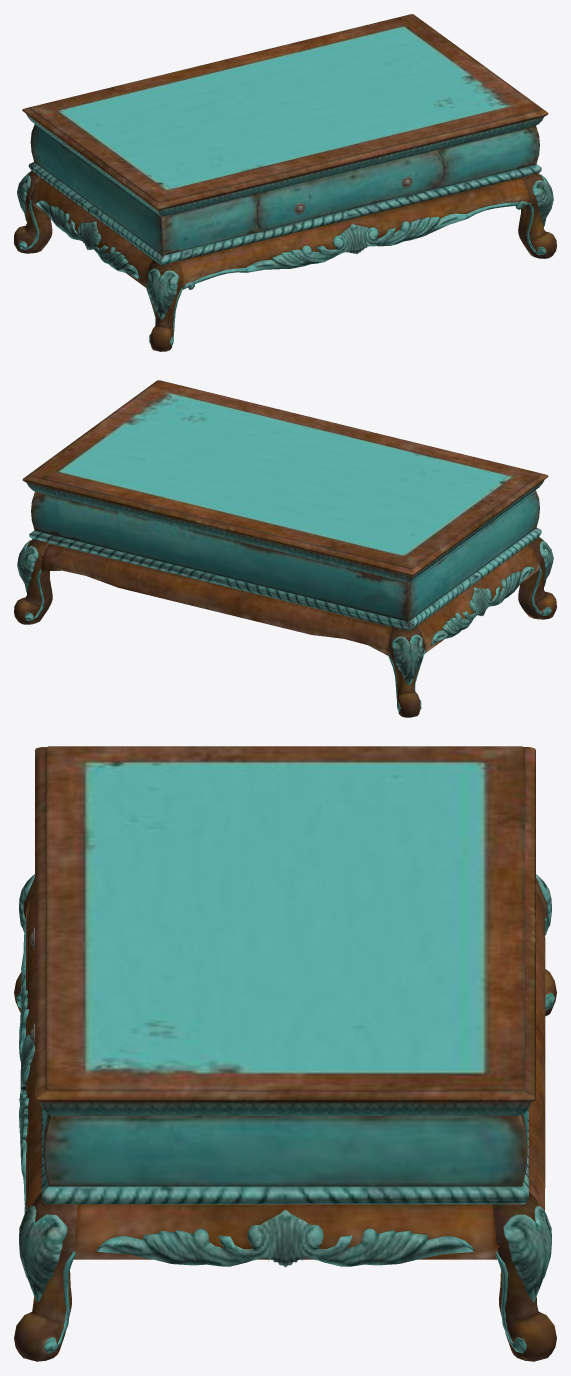
File: CoffeeTable_01.glb
The picture shows the model from 3 angles, top to bottom: view 1: azimuth 30°, elevation 25°; view 2: azimuth 150°, elevation 25°; view 3: azimuth 270°, elevation 25°; orthographic projection. The views are drawn at different scales.
Visible parts, largest first — view 1: c07_wood, c12_wood, c21_wood, c20_wood, c19_wood, c01_wood, c17_wood, c08_wood, c15_wood, c11_wood, c14_wood, c10_wood (+3 smaller); view 2: c07_wood, c21_wood, c19_wood, c11_wood, c09_wood, c16_wood, c12_wood, c10_wood, c14_wood; view 3: c07_wood, c17_wood, c20_wood, c11_wood, c13_wood, c08_wood, c19_wood, c15_wood, c09_wood, c10_wood, c01_wood.
Boxes of the visible parts, box(x1,y1,x2,y2) form: c07_wood: box(30, 14, 540, 202); c12_wood: box(29, 150, 541, 328); c21_wood: box(30, 124, 260, 255); c20_wood: box(178, 174, 553, 289); c19_wood: box(17, 171, 178, 319); c01_wood: box(182, 201, 529, 289); c17_wood: box(437, 126, 539, 188); c08_wood: box(158, 14, 548, 210); c15_wood: box(160, 117, 543, 216); c11_wood: box(24, 162, 545, 256); c14_wood: box(36, 200, 138, 278); c10_wood: box(14, 200, 173, 351); c07_wood: box(30, 380, 540, 568); c21_wood: box(31, 490, 539, 621); c19_wood: box(17, 537, 553, 685); c11_wood: box(25, 530, 425, 694); c09_wood: box(23, 473, 548, 576); c16_wood: box(27, 480, 544, 582); c12_wood: box(408, 528, 545, 630); c10_wood: box(14, 566, 556, 717); c14_wood: box(432, 566, 534, 644); c07_wood: box(46, 746, 524, 1090); c17_wood: box(43, 1110, 527, 1186); c20_wood: box(19, 892, 499, 1302); c11_wood: box(31, 878, 547, 1352); c13_wood: box(14, 993, 526, 1361); c08_wood: box(35, 747, 535, 1103); c19_wood: box(19, 874, 551, 1302); c15_wood: box(40, 1103, 530, 1115); c09_wood: box(37, 747, 535, 1099); c10_wood: box(14, 918, 556, 1361); c01_wood: box(19, 918, 34, 1213).
Bounding box in the file's own units: 1.54 × 0.5235 × 0.9736.
Materials: 1 (1 with a texture image).
